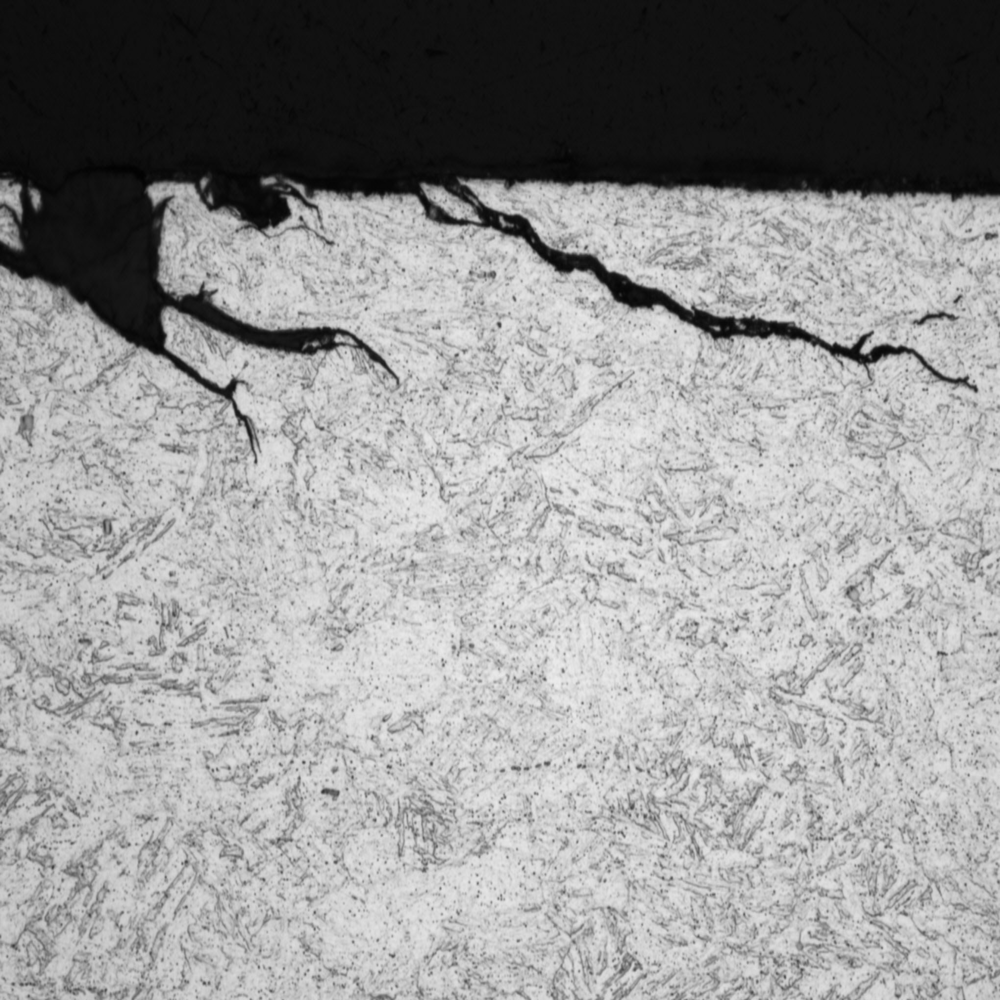crack: (389, 165, 988, 429), (1, 184, 293, 480), (142, 258, 437, 415)
